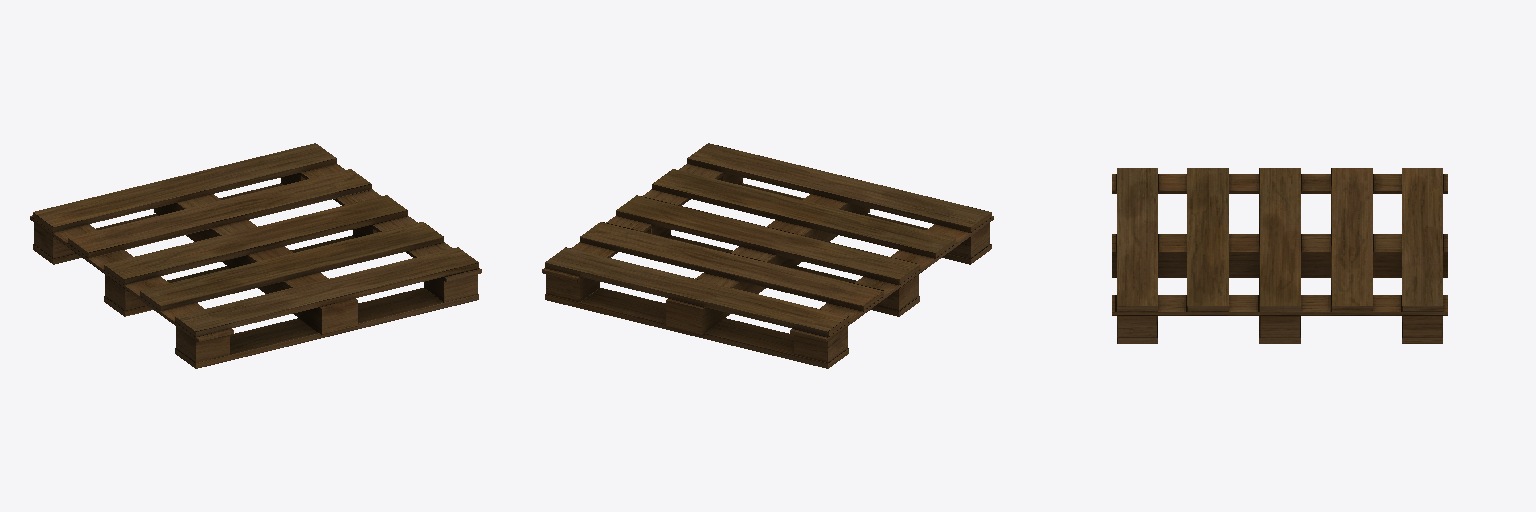
3 views of the same model, side by side, from view 1: azimuth 30°, elevation 25°; view 2: azimuth 150°, elevation 25°; view 3: azimuth 270°, elevation 25° (orthographic).
Parts seen in each view (by area): view 1: WoodenPallet_Cube.005; view 2: WoodenPallet_Cube.005; view 3: WoodenPallet_Cube.005.
Part boxes in pixels (x1,y1,x2,y2): WoodenPallet_Cube.005: (30, 143, 481, 368); WoodenPallet_Cube.005: (542, 143, 993, 368); WoodenPallet_Cube.005: (1112, 168, 1447, 343).
Bounding box in the file's own units: 1.24 × 0.156 × 1.27.
Materials: 1 (1 with a texture image).